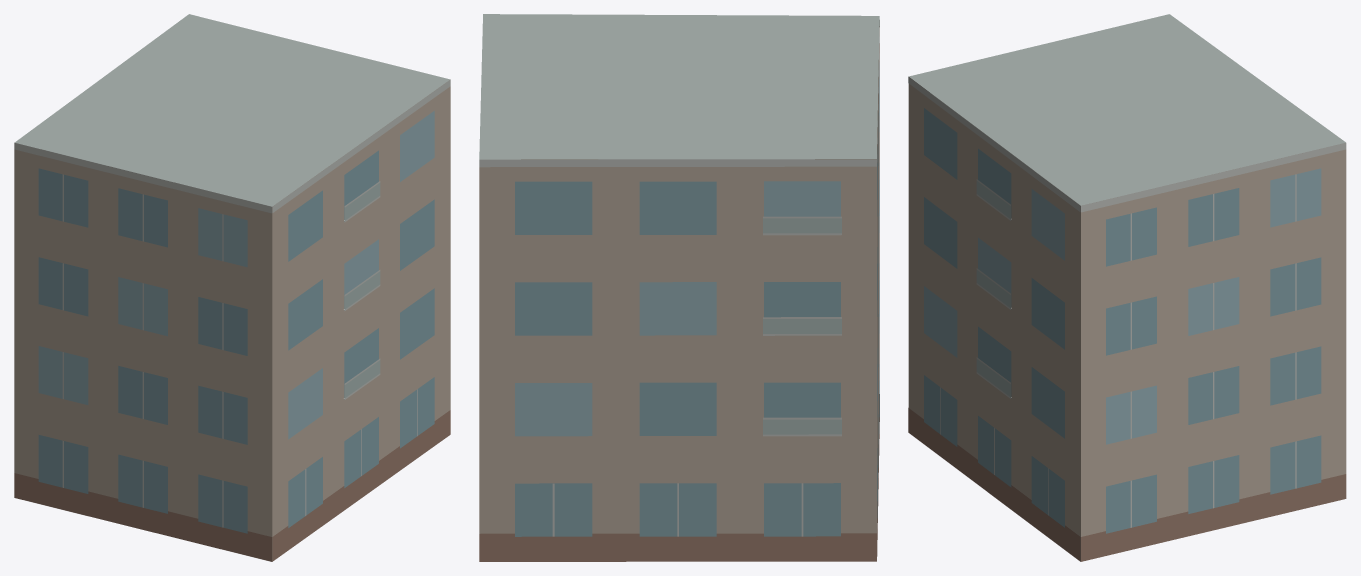
File: survey-upis-32713724.glb
3 renders of one model, left to right at view 1: azimuth 30°, elevation 25°; view 2: azimuth 150°, elevation 25°; view 3: azimuth 270°, elevation 25°, orthographic. The views are drawn at different scales.
Parts seen in each view (by area): view 1: survey-upis-32713724.tmp; view 2: survey-upis-32713724.tmp; view 3: survey-upis-32713724.tmp.
Part boxes in pixels (bbox=[...]): survey-upis-32713724.tmp: bbox=[14, 14, 450, 561]; survey-upis-32713724.tmp: bbox=[479, 14, 879, 561]; survey-upis-32713724.tmp: bbox=[908, 14, 1346, 561].
Bounding box in the file's own units: 14.79 × 12.8 × 14.27.
